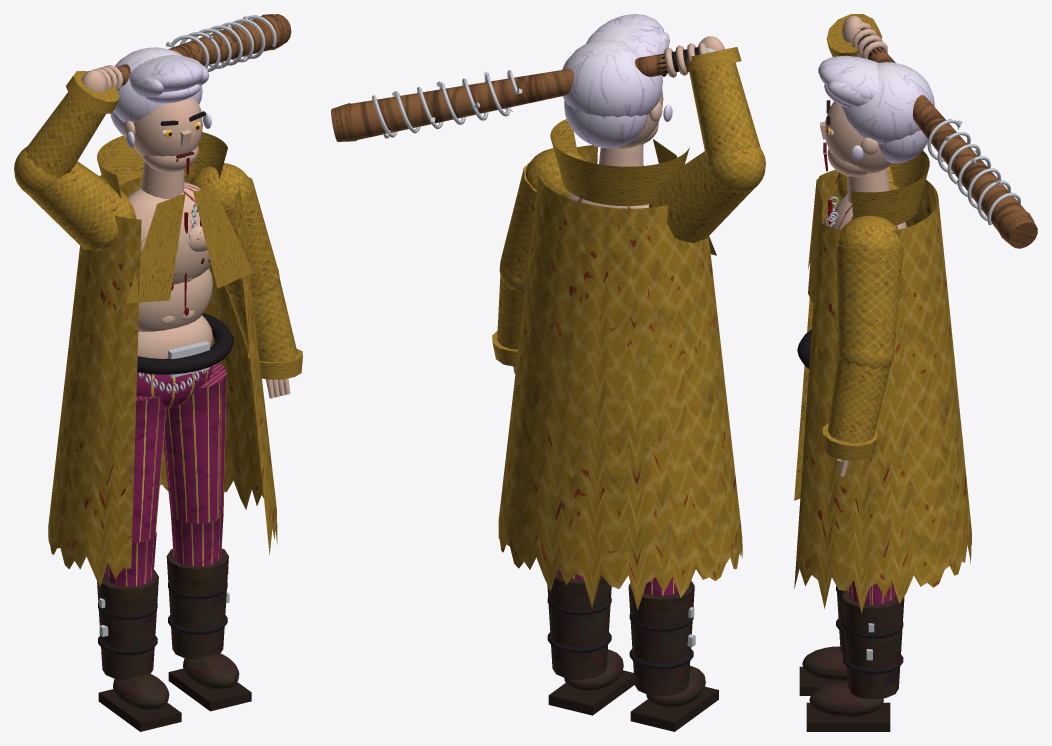
Rendered from trickster.glb.
The picture shows the model from 3 angles, left to right: view 1: azimuth 30°, elevation 25°; view 2: azimuth 150°, elevation 25°; view 3: azimuth 270°, elevation 25°; orthographic projection. The views are drawn at different scales.
Parts seen in each view (by area): view 1: Trickster; view 2: Trickster; view 3: Trickster.
Part boxes in pixels (left/top/right/bottom): Trickster: left=14, top=14, right=302, bottom=731; Trickster: left=331, top=14, right=765, bottom=731; Trickster: left=794, top=14, right=1037, bottom=731.
Bounding box in the file's own units: 1.1 × 2.02 × 0.6858.
Materials: 17 (7 with a texture image).
